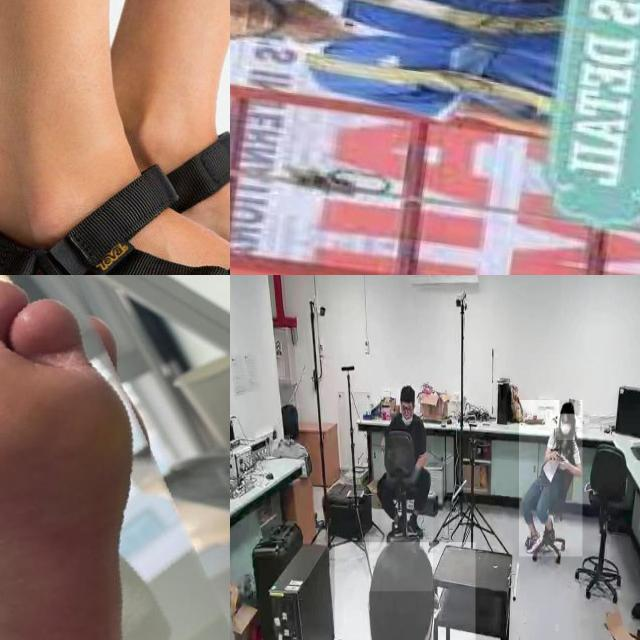Barefoots: (0, 275, 159, 640)
Harness: (296, 0, 571, 110)
Sandals: (0, 147, 230, 275)
face_mask: (557, 413, 575, 440)
hand_noglove: (558, 454, 568, 470), (550, 449, 560, 461)
head_nohelmet: (369, 537, 433, 592), (559, 400, 575, 415), (400, 384, 414, 400)
person: (334, 542, 475, 640), (519, 400, 583, 557), (382, 388, 434, 538)
shoes: (524, 528, 544, 558), (406, 509, 424, 542), (546, 512, 556, 548)
